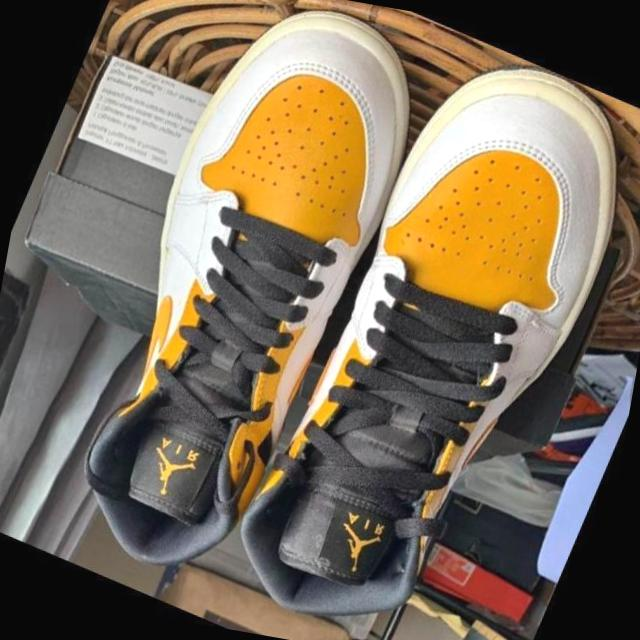nike_original_jordan: (203, 2, 640, 640), (21, 0, 444, 615)
